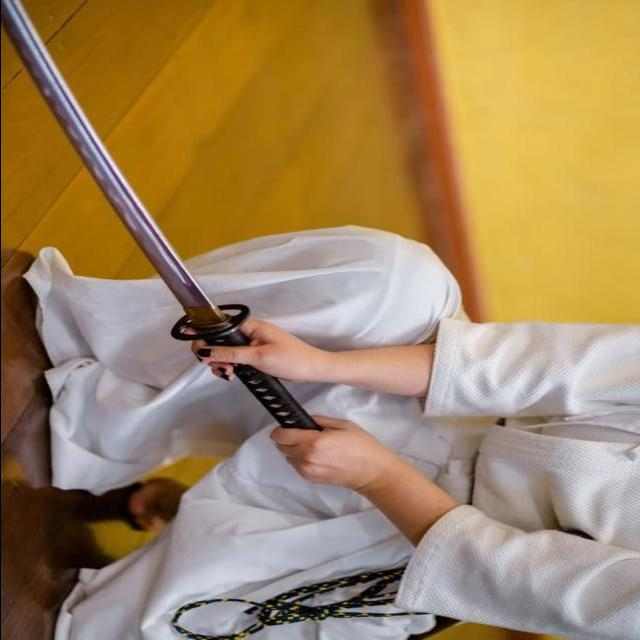katana: (2, 1, 325, 432)
